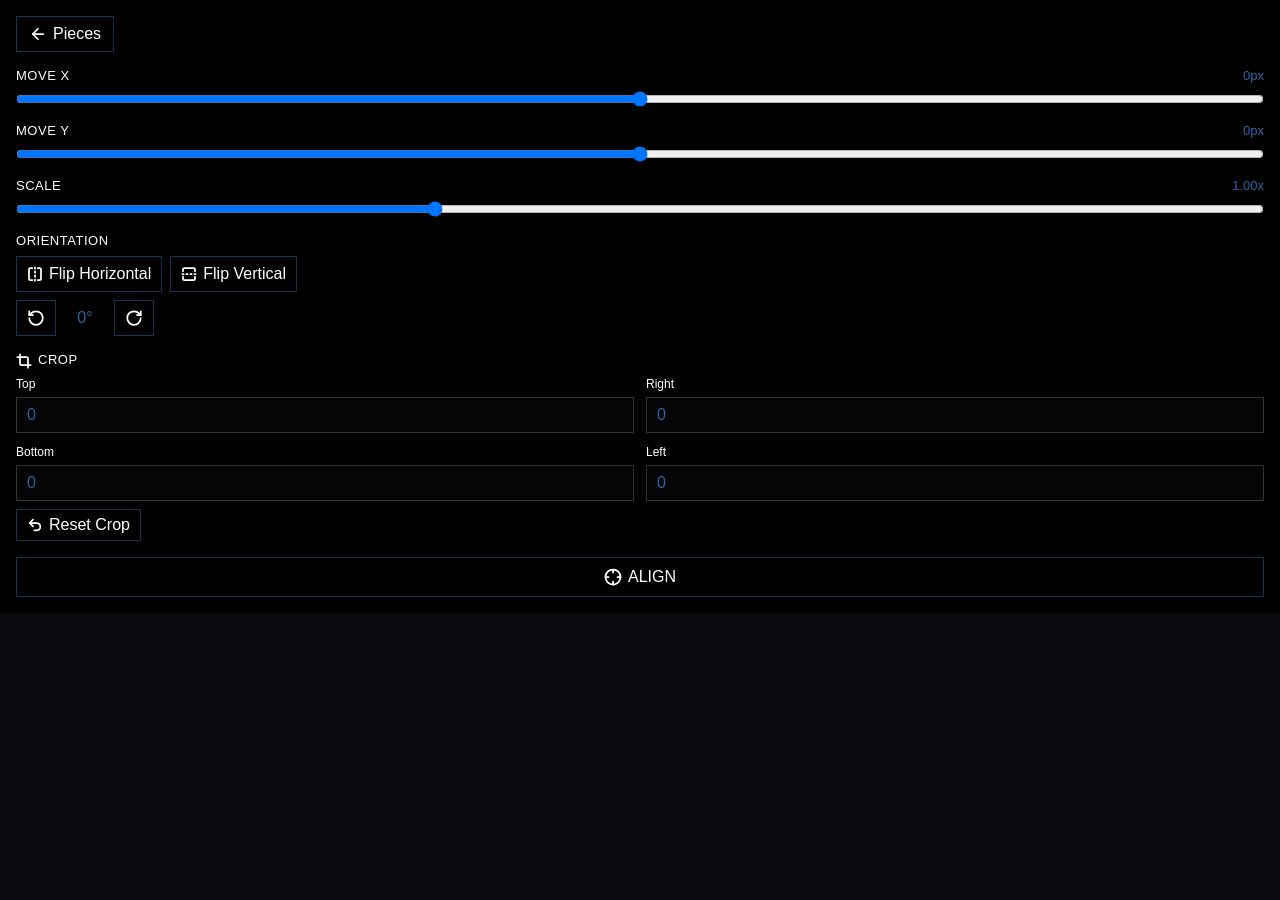
Test: CameraControlsPanel › starts the align flow and shows the lowest-A instruction
Click the button "ALIGN".
click(640, 577)  # box [16,557,1264,597]
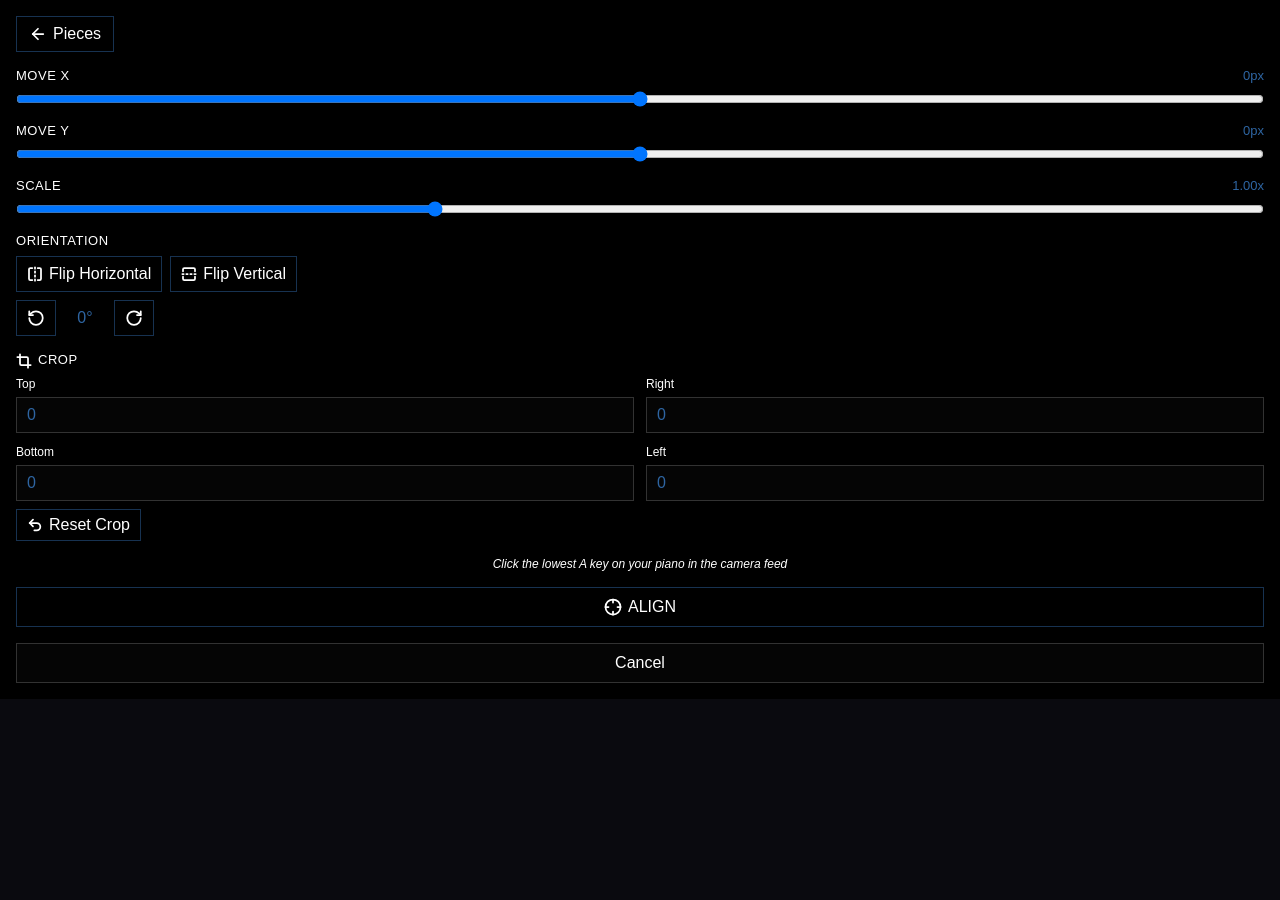
Expected: the text "Click the lowest A key on your piano in the camera feed" is shown, [493,557,787,571]
Expected: the button "Cancel" is shown, [16,643,1264,683]
